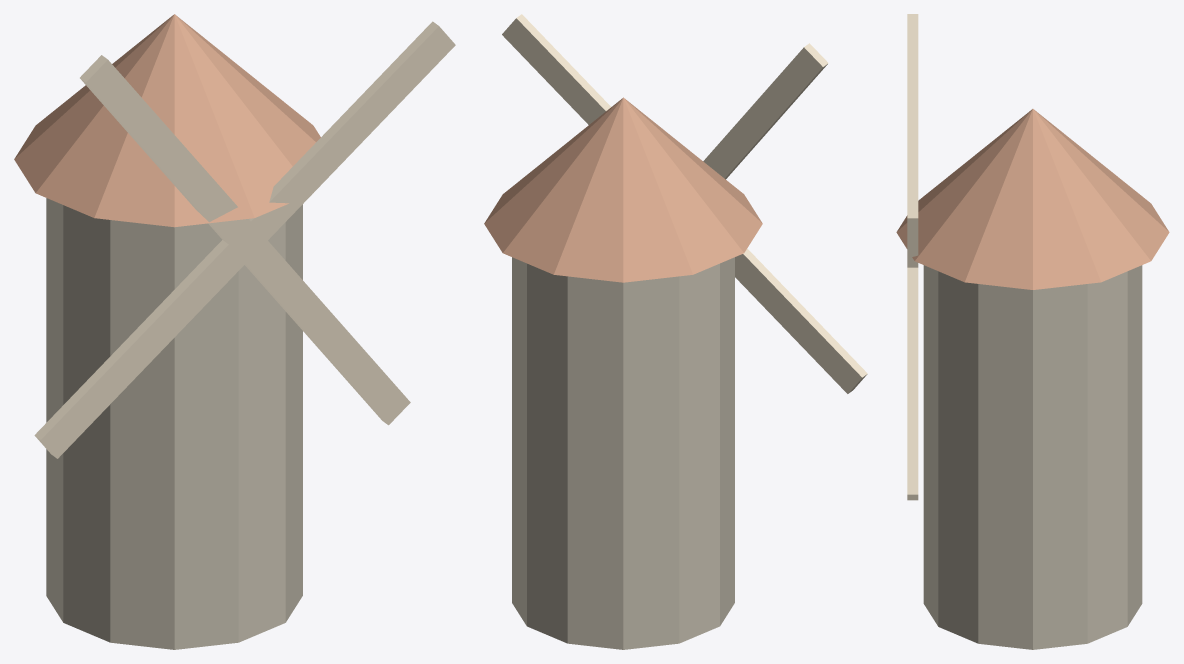
The model's file is windmill.glb.
The picture shows the model from 3 angles, left to right: view 1: azimuth 30°, elevation 25°; view 2: azimuth 150°, elevation 25°; view 3: azimuth 270°, elevation 25°; orthographic projection. The views are drawn at different scales.
Parts seen in each view (by area): view 1: tower, sail (×2), roof; view 2: tower, roof, sail (×2); view 3: tower, roof, sail (×2).
Part boxes in pixels (x1,y1,x2,y2): tower: (46,198,302,649); sail (×2): (34,21,455,458); roof: (14,14,320,227); tower: (512,257,734,649); roof: (484,97,762,282); sail (×2): (502,14,867,393); tower: (923,265,1142,649); roof: (896,109,1169,289); sail (×2): (907,14,918,500).
Size of the model in its own units: 2.99 by 4.29 by 2.
